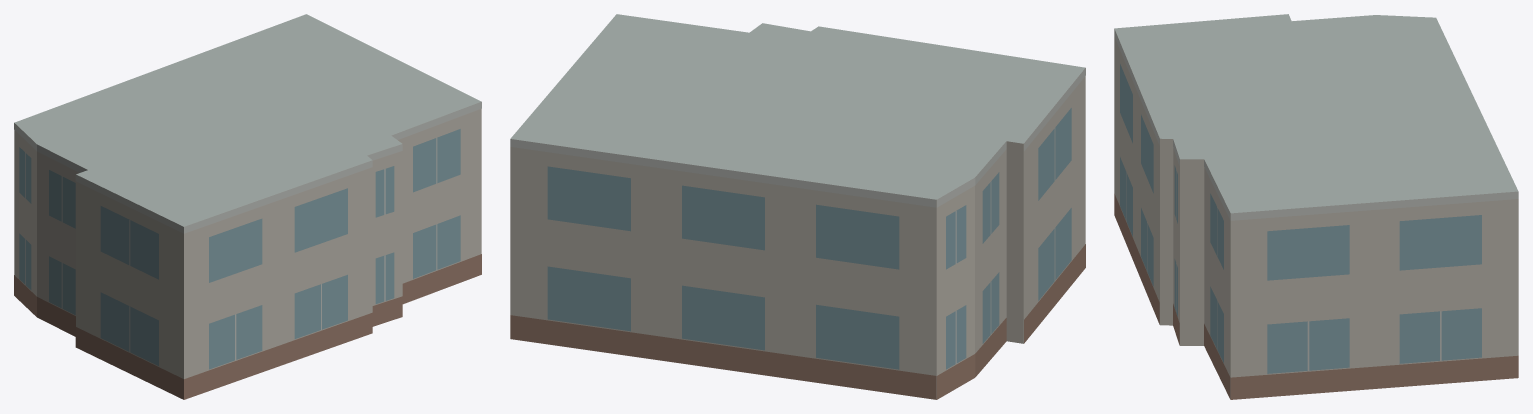
File: survey-upis-32609984.glb
The picture shows the model from 3 angles, left to right: view 1: azimuth 30°, elevation 25°; view 2: azimuth 150°, elevation 25°; view 3: azimuth 270°, elevation 25°; orthographic projection. The views are drawn at different scales.
Parts seen in each view (by area): view 1: survey-upis-32609984.tmp; view 2: survey-upis-32609984.tmp; view 3: survey-upis-32609984.tmp.
Boxes of the visible parts, bbox=[...] form: survey-upis-32609984.tmp: bbox=[14, 14, 481, 399]; survey-upis-32609984.tmp: bbox=[510, 14, 1085, 399]; survey-upis-32609984.tmp: bbox=[1114, 14, 1518, 399].
Size of the model in its own units: 13.99 by 6.1 by 11.99.
